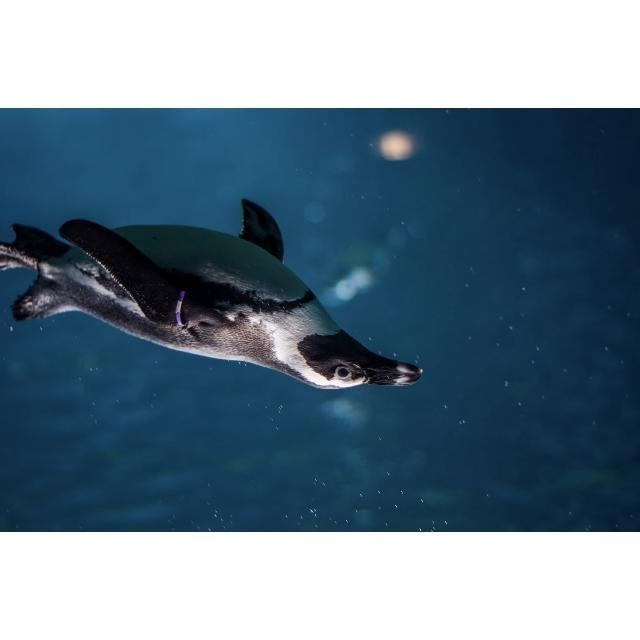penguin: (1, 196, 425, 392)
